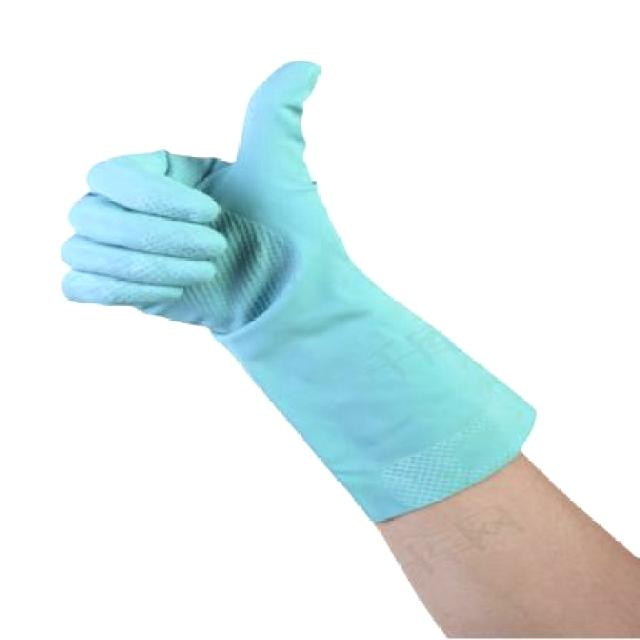hand_glove: (55, 53, 393, 344)
